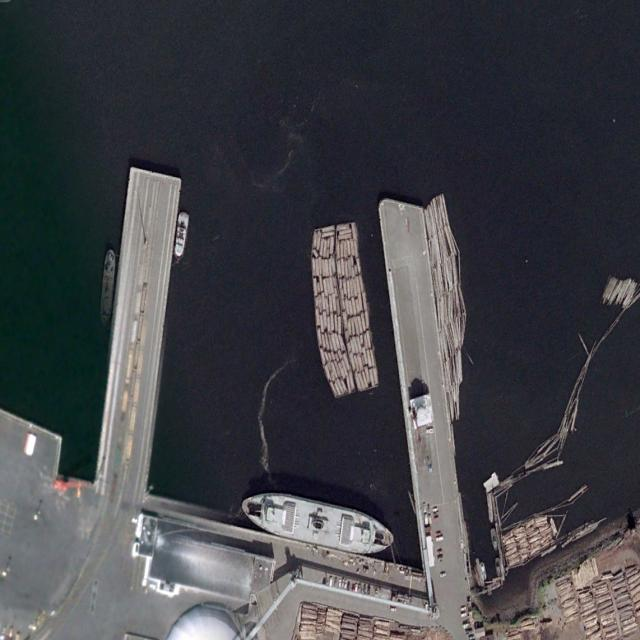Cargo: (98, 248, 117, 329)
RoRo: (239, 482, 396, 561)
Yacht: (173, 213, 191, 263)
